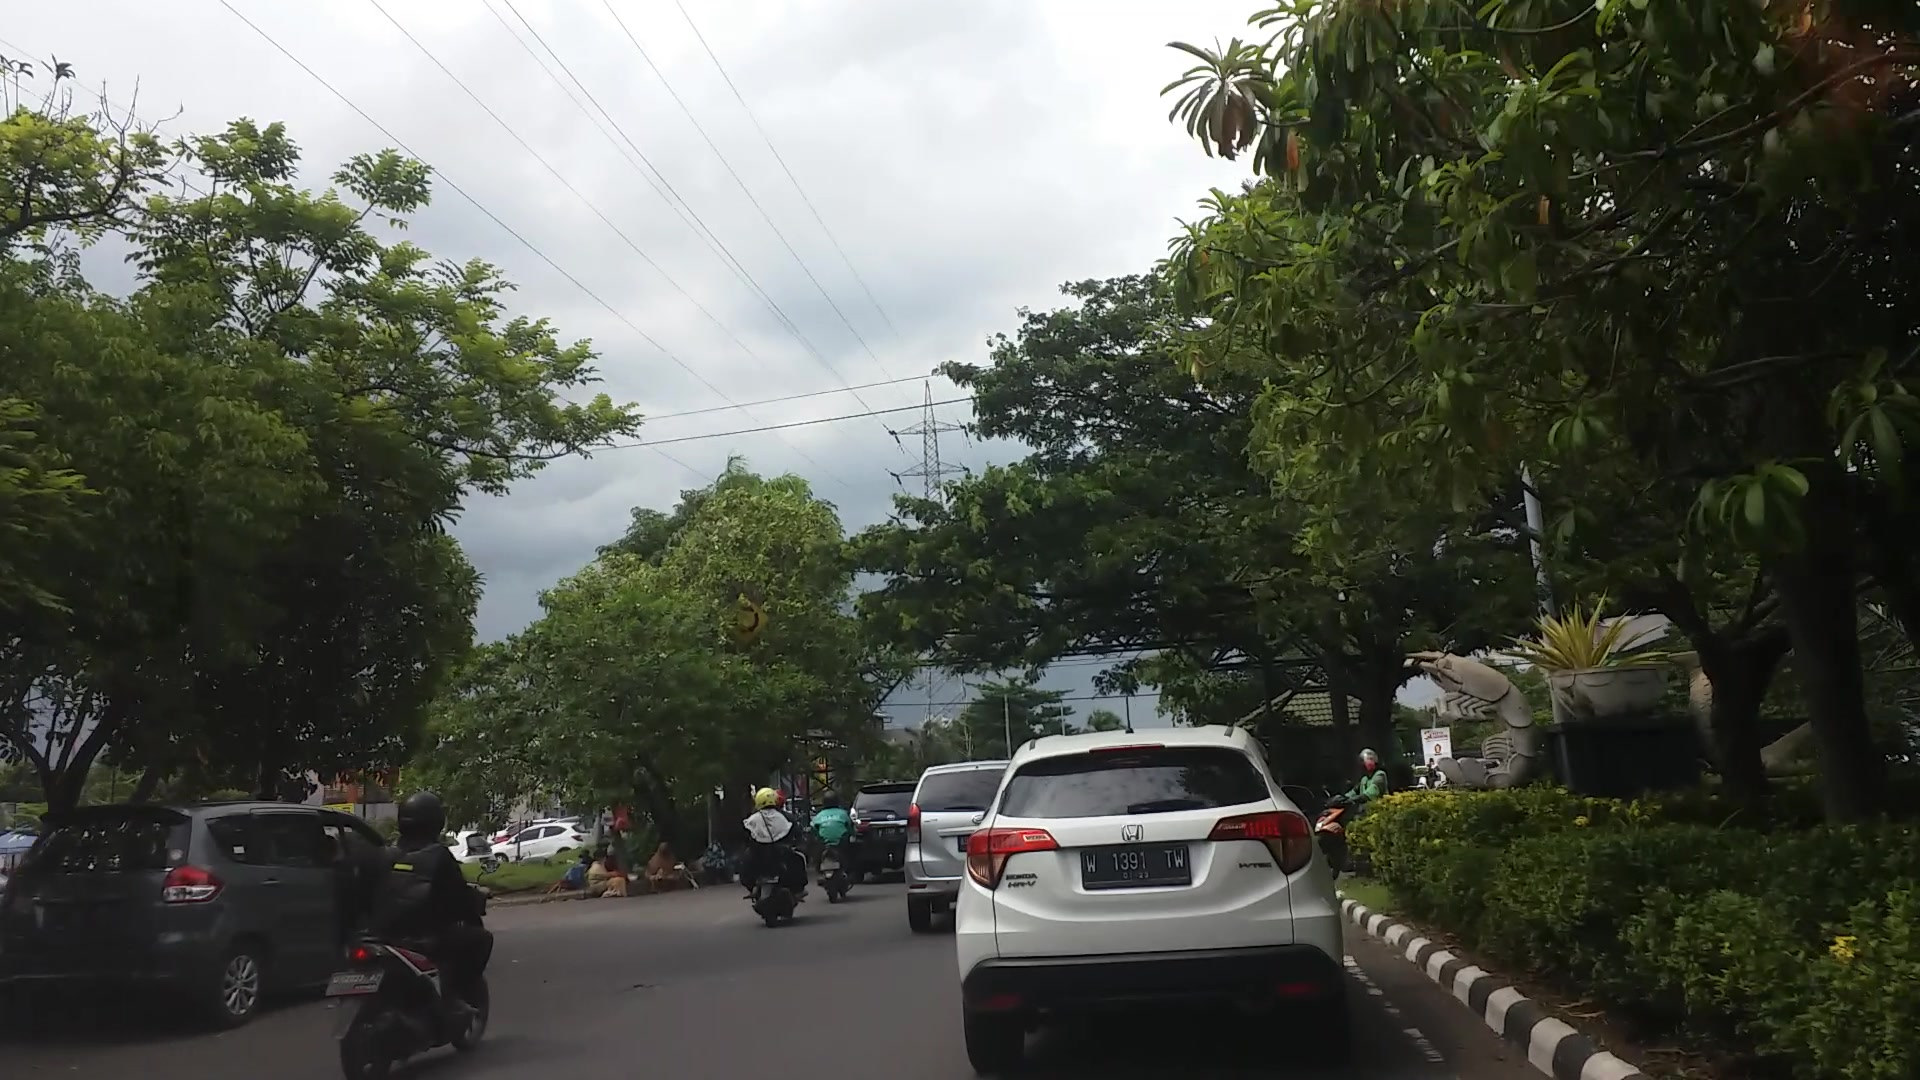plate_positive: (1080, 847, 1191, 886)
